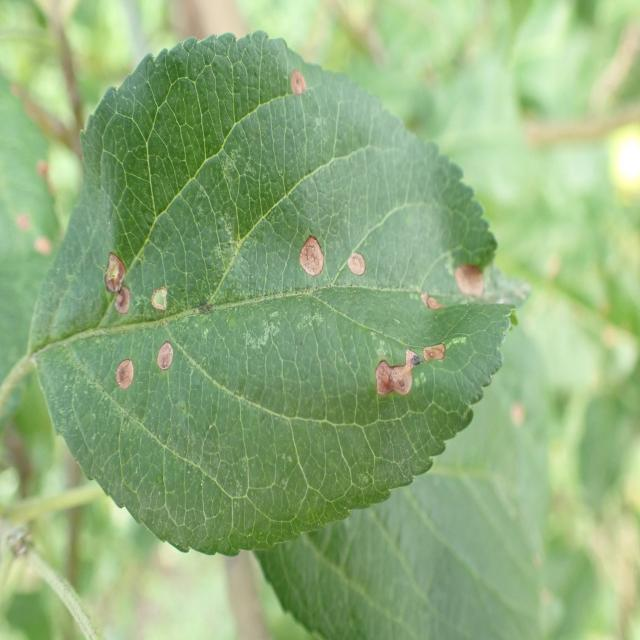Black Rot: (374, 332, 456, 405), (90, 229, 136, 332), (449, 234, 495, 316), (286, 204, 328, 291), (109, 347, 142, 422), (147, 336, 200, 381), (416, 260, 446, 328), (343, 226, 367, 300), (283, 56, 312, 116), (147, 268, 176, 326)
